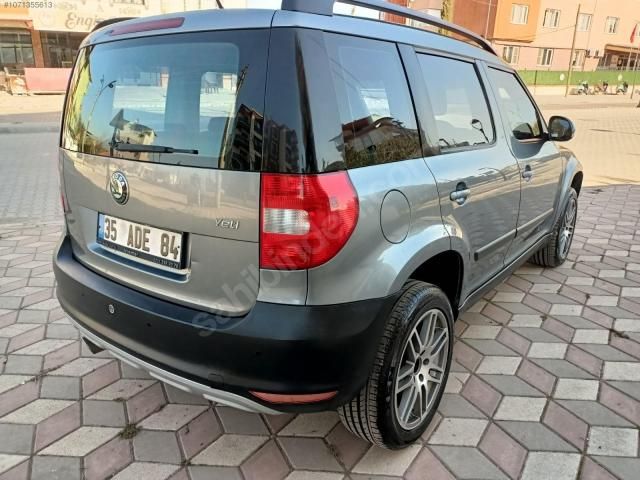plaka: (97, 213, 187, 275)
